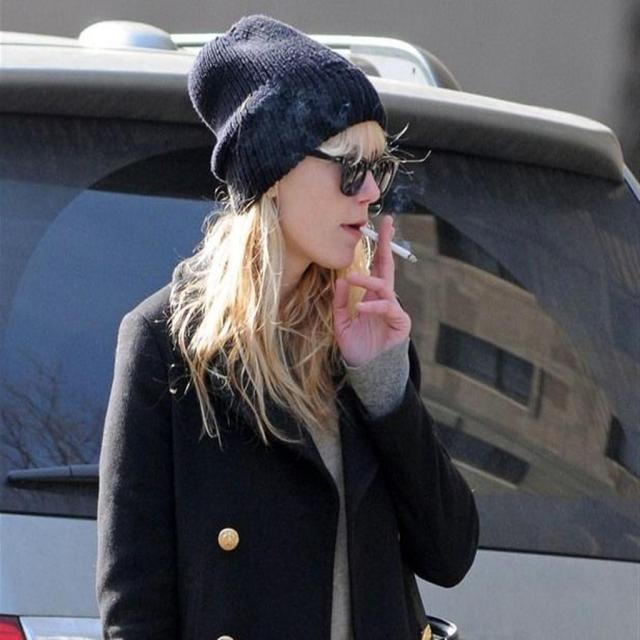smoking: (199, 41, 440, 403)
